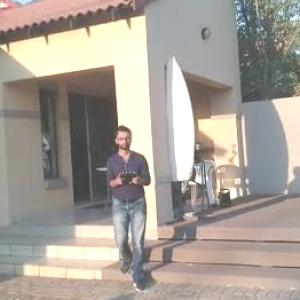follow: (105, 120, 157, 291)
